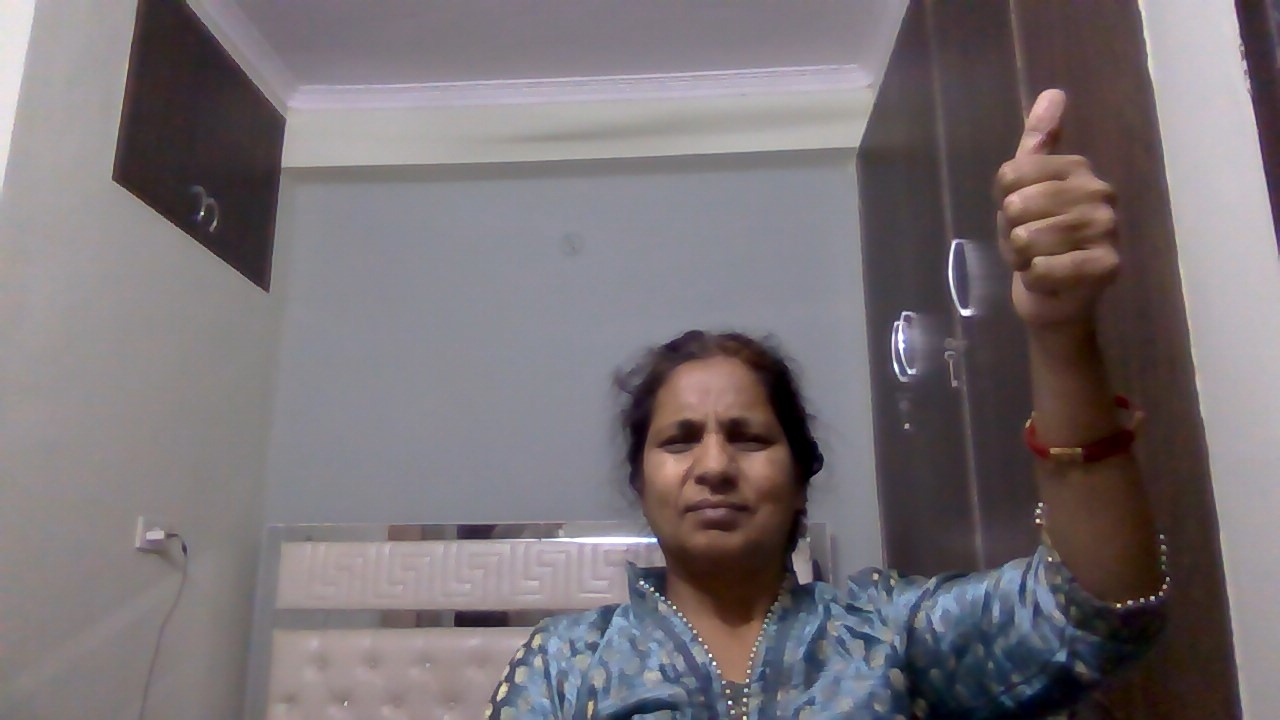Save: (974, 83, 1135, 338)
